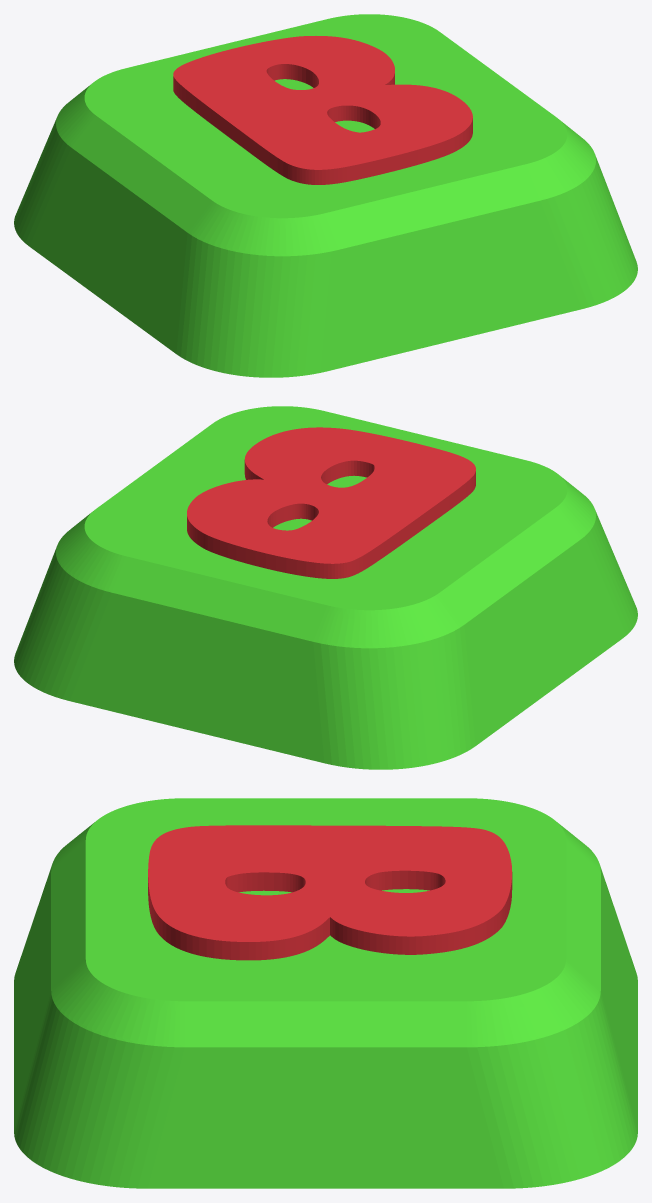
3 renders of one model, top to bottom at view 1: azimuth 30°, elevation 25°; view 2: azimuth 150°, elevation 25°; view 3: azimuth 270°, elevation 25°, orthographic. The views are drawn at different scales.
Visible parts, largest first — view 1: CAPS_B, FONT_B; view 2: CAPS_B, FONT_B; view 3: CAPS_B, FONT_B.
Boxes of the visible parts, x1=… form: CAPS_B: x1=14, y1=14, x2=637, y2=377; FONT_B: x1=173, y1=36, x2=472, y2=184; CAPS_B: x1=14, y1=406, x2=637, y2=769; FONT_B: x1=187, y1=427, x2=475, y2=578; CAPS_B: x1=14, y1=798, x2=637, y2=1188; FONT_B: x1=148, y1=825, x2=512, y2=960.
Size of the model in its own units: 18 by 5.59 by 18.
